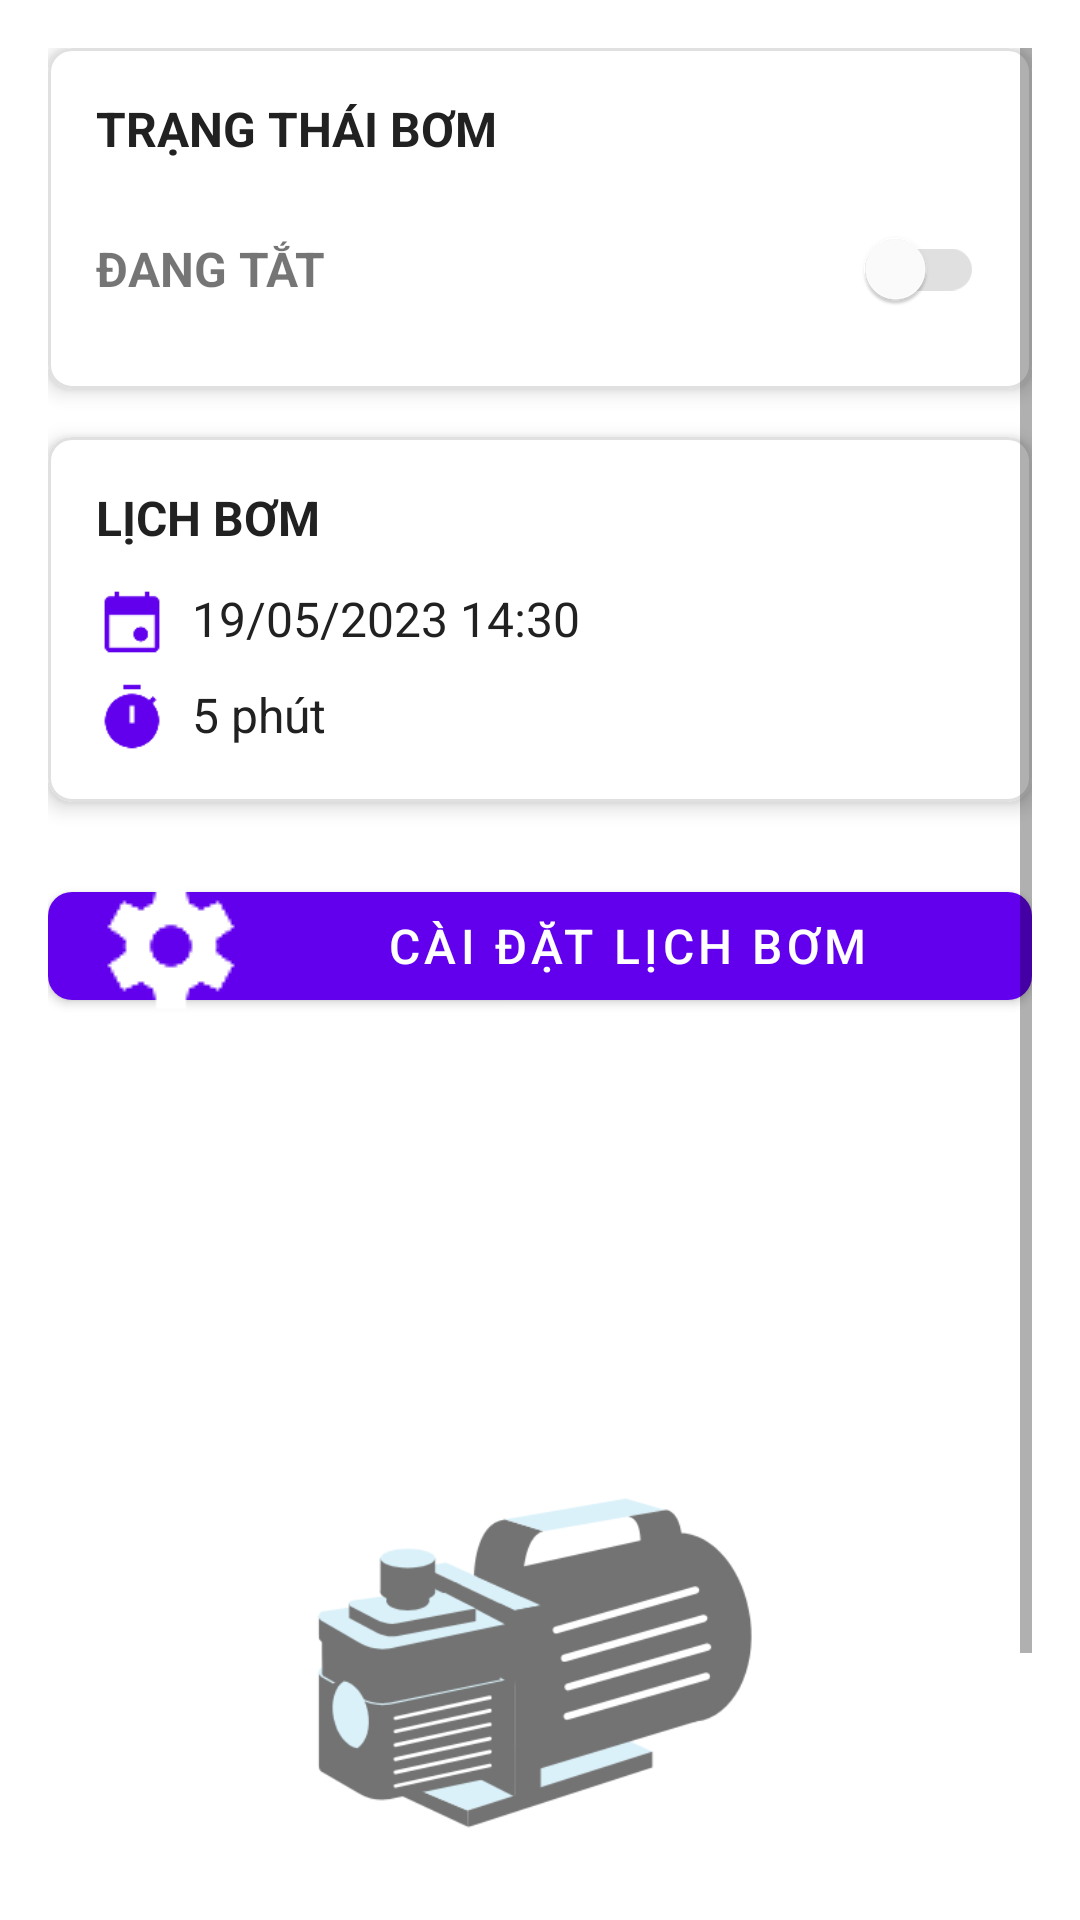

Screen size 1080 x 1920. Icon name, then its center in pixels as point (x, y):
calendar: point (132, 622)
timer: point (132, 716)
